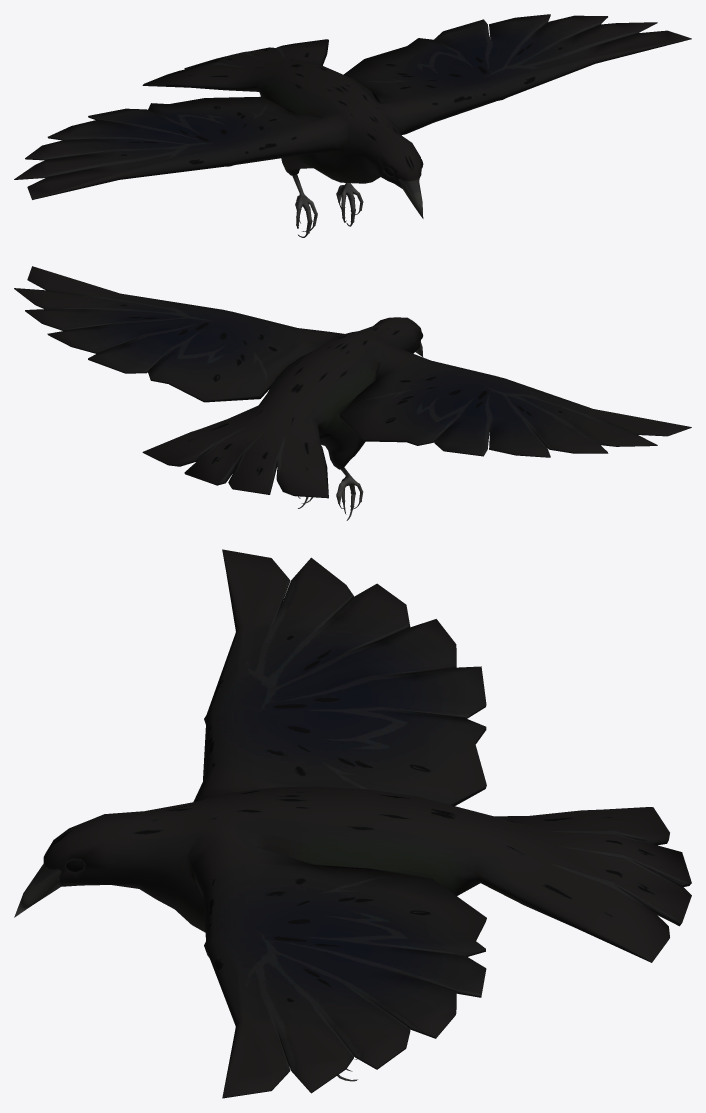
Rendered from bird.obj.
The picture shows the model from 3 angles, top to bottom: view 1: azimuth 30°, elevation 25°; view 2: azimuth 150°, elevation 25°; view 3: azimuth 270°, elevation 25°; orthographic projection. The views are drawn at different scales.
Parts seen in each view (by area): view 1: bird_model; view 2: bird_model; view 3: bird_model.
Boxes of the visible parts, x1,y1,x2,y2 form: bird_model: (14,14,691,237); bird_model: (14,266,691,520); bird_model: (14,549,691,1098).
Bounding box in the file's own units: 5400 × 1213 × 2823.
Materials: 1 (1 with a texture image).
